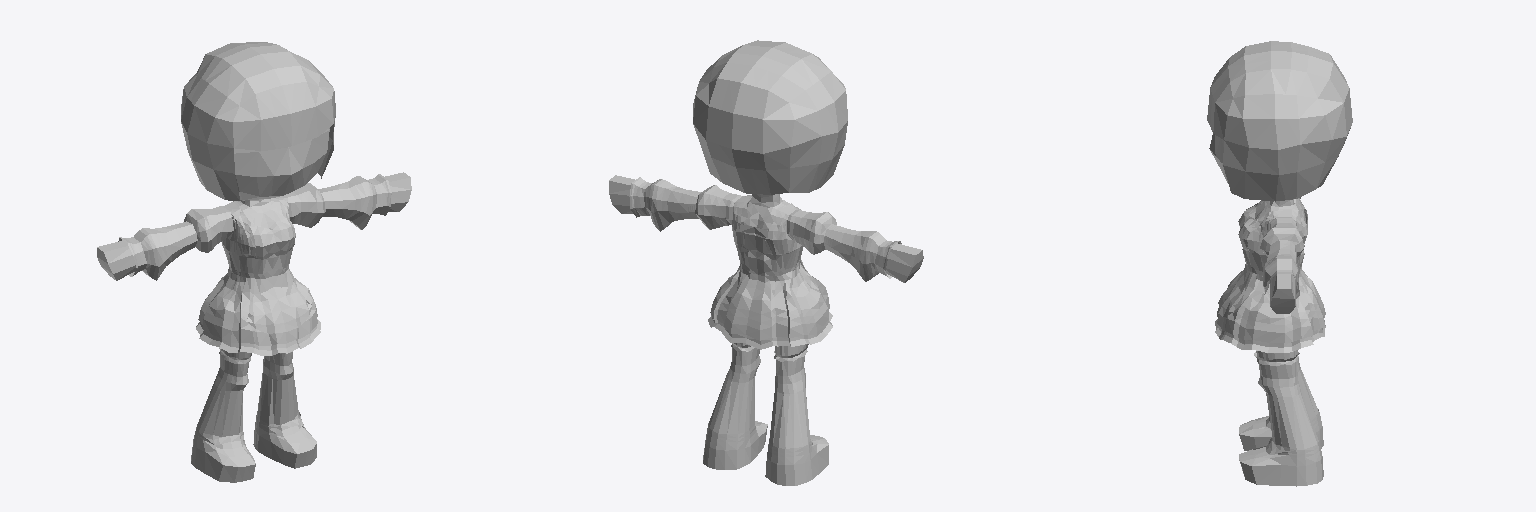
3 renders of one model, left to right at view 1: azimuth 30°, elevation 25°; view 2: azimuth 150°, elevation 25°; view 3: azimuth 270°, elevation 25°, orthographic.
Visible parts, largest first — view 1: 髪_立方体.010, ワンピース_立方体.002, 身体_立方体.001, オーバーニーソックス_立方体.004, エプロン_立方体.007, 靴_立方体.005, フリル_立方体.006; view 2: 髪_立方体.010, ワンピース_立方体.002, オーバーニーソックス_立方体.004, 靴_立方体.005, 身体_立方体.001, エプロン_立方体.007, フリル_立方体.006; view 3: 髪_立方体.010, ワンピース_立方体.002, オーバーニーソックス_立方体.004, 靴_立方体.005, エプロン_立方体.007, 身体_立方体.001, フリル_立方体.006.
Boxes of the visible parts, x1=… form: 髪_立方体.010: x1=181, y1=42, x2=335, y2=200; ワンピース_立方体.002: x1=118, y1=174, x2=391, y2=345; 身体_立方体.001: x1=97, y1=128, x2=411, y2=358; オーバーニーソックス_立方体.004: x1=196, y1=348, x2=306, y2=456; エプロン_立方体.007: x1=222, y1=197, x2=311, y2=333; 靴_立方体.005: x1=191, y1=412, x2=316, y2=482; フリル_立方体.006: x1=196, y1=319, x2=320, y2=355; 髪_立方体.010: x1=693, y1=40, x2=847, y2=194; ワンピース_立方体.002: x1=629, y1=177, x2=901, y2=340; オーバーニーソックス_立方体.004: x1=708, y1=343, x2=818, y2=448; 靴_立方体.005: x1=703, y1=421, x2=828, y2=485; 身体_立方体.001: x1=609, y1=175, x2=923, y2=355; エプロン_立方体.007: x1=734, y1=195, x2=818, y2=280; フリル_立方体.006: x1=708, y1=310, x2=832, y2=349; 髪_立方体.010: x1=1207, y1=41, x2=1352, y2=201; ワンピース_立方体.002: x1=1217, y1=197, x2=1325, y2=342; オーバーニーソックス_立方体.004: x1=1253, y1=350, x2=1318, y2=459; 靴_立方体.005: x1=1239, y1=409, x2=1323, y2=486; エプロン_立方体.007: x1=1218, y1=199, x2=1307, y2=316; 身体_立方体.001: x1=1209, y1=134, x2=1305, y2=359; フリル_立方体.006: x1=1215, y1=319, x2=1324, y2=352.
Size of the model in its own units: 2.15 by 2.74 by 0.884.